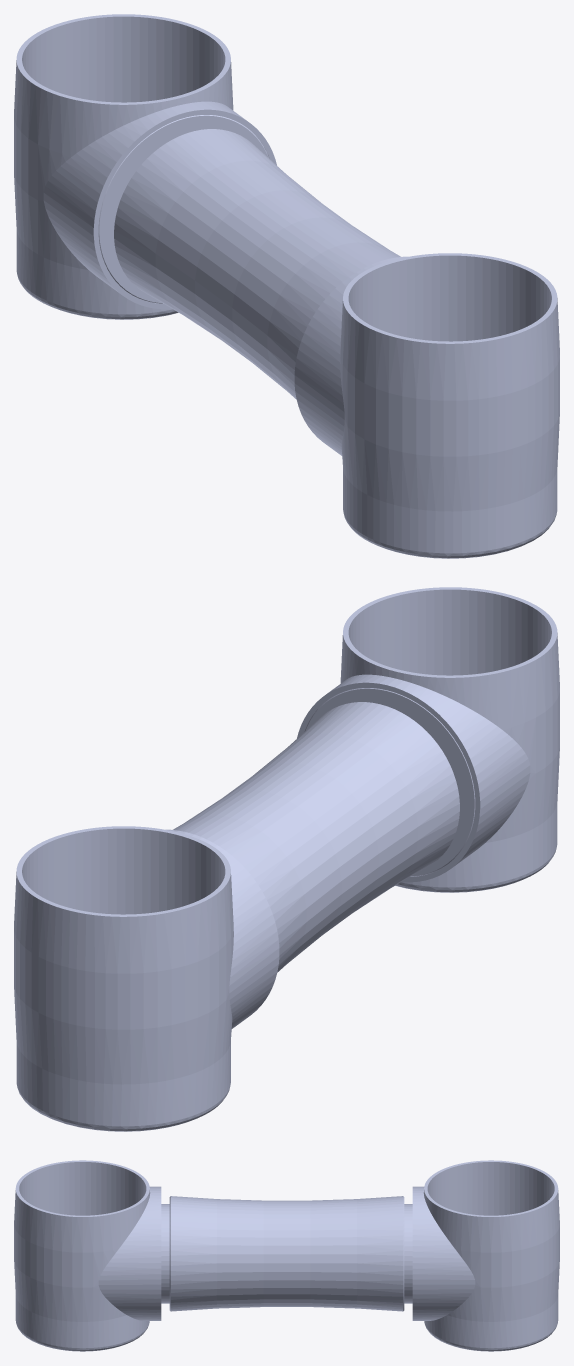
The model's file is jaka2.fbx.
3 renders of one model, top to bottom at view 1: azimuth 30°, elevation 25°; view 2: azimuth 150°, elevation 25°; view 3: azimuth 270°, elevation 25°, orthographic. The views are drawn at different scales.
Parts seen in each view (by area): view 1: ____2; view 2: ____2; view 3: ____2.
Part boxes in pixels (x1,y1,x2,y2): ____2: [14, 14, 559, 558]; ____2: [14, 587, 559, 1131]; ____2: [14, 1160, 559, 1351].
Size of the model in its own units: 119 by 130 by 472.
